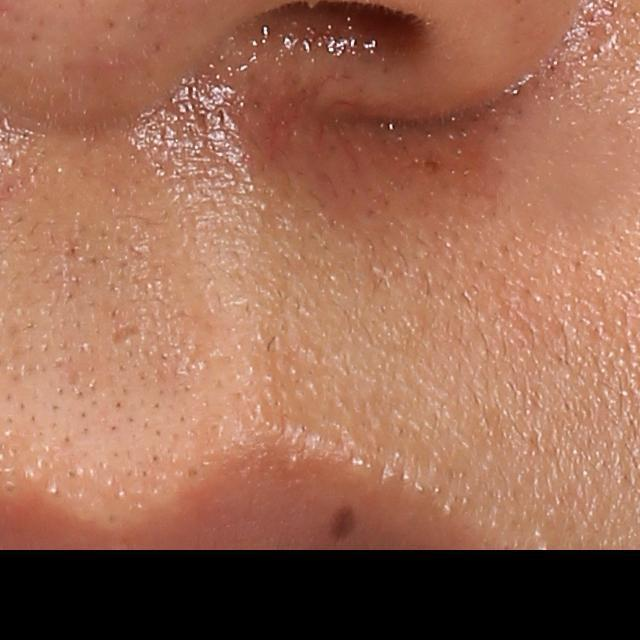atrophic_scar: (111, 317, 150, 349)
nevus: (327, 500, 359, 543)
